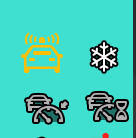ACC_AKTIV: (16, 87, 77, 127)
ACC_WAITING: (84, 87, 131, 125)
CONSTRUCTION: (18, 29, 68, 77)
EISSTERN: (84, 37, 127, 77)
